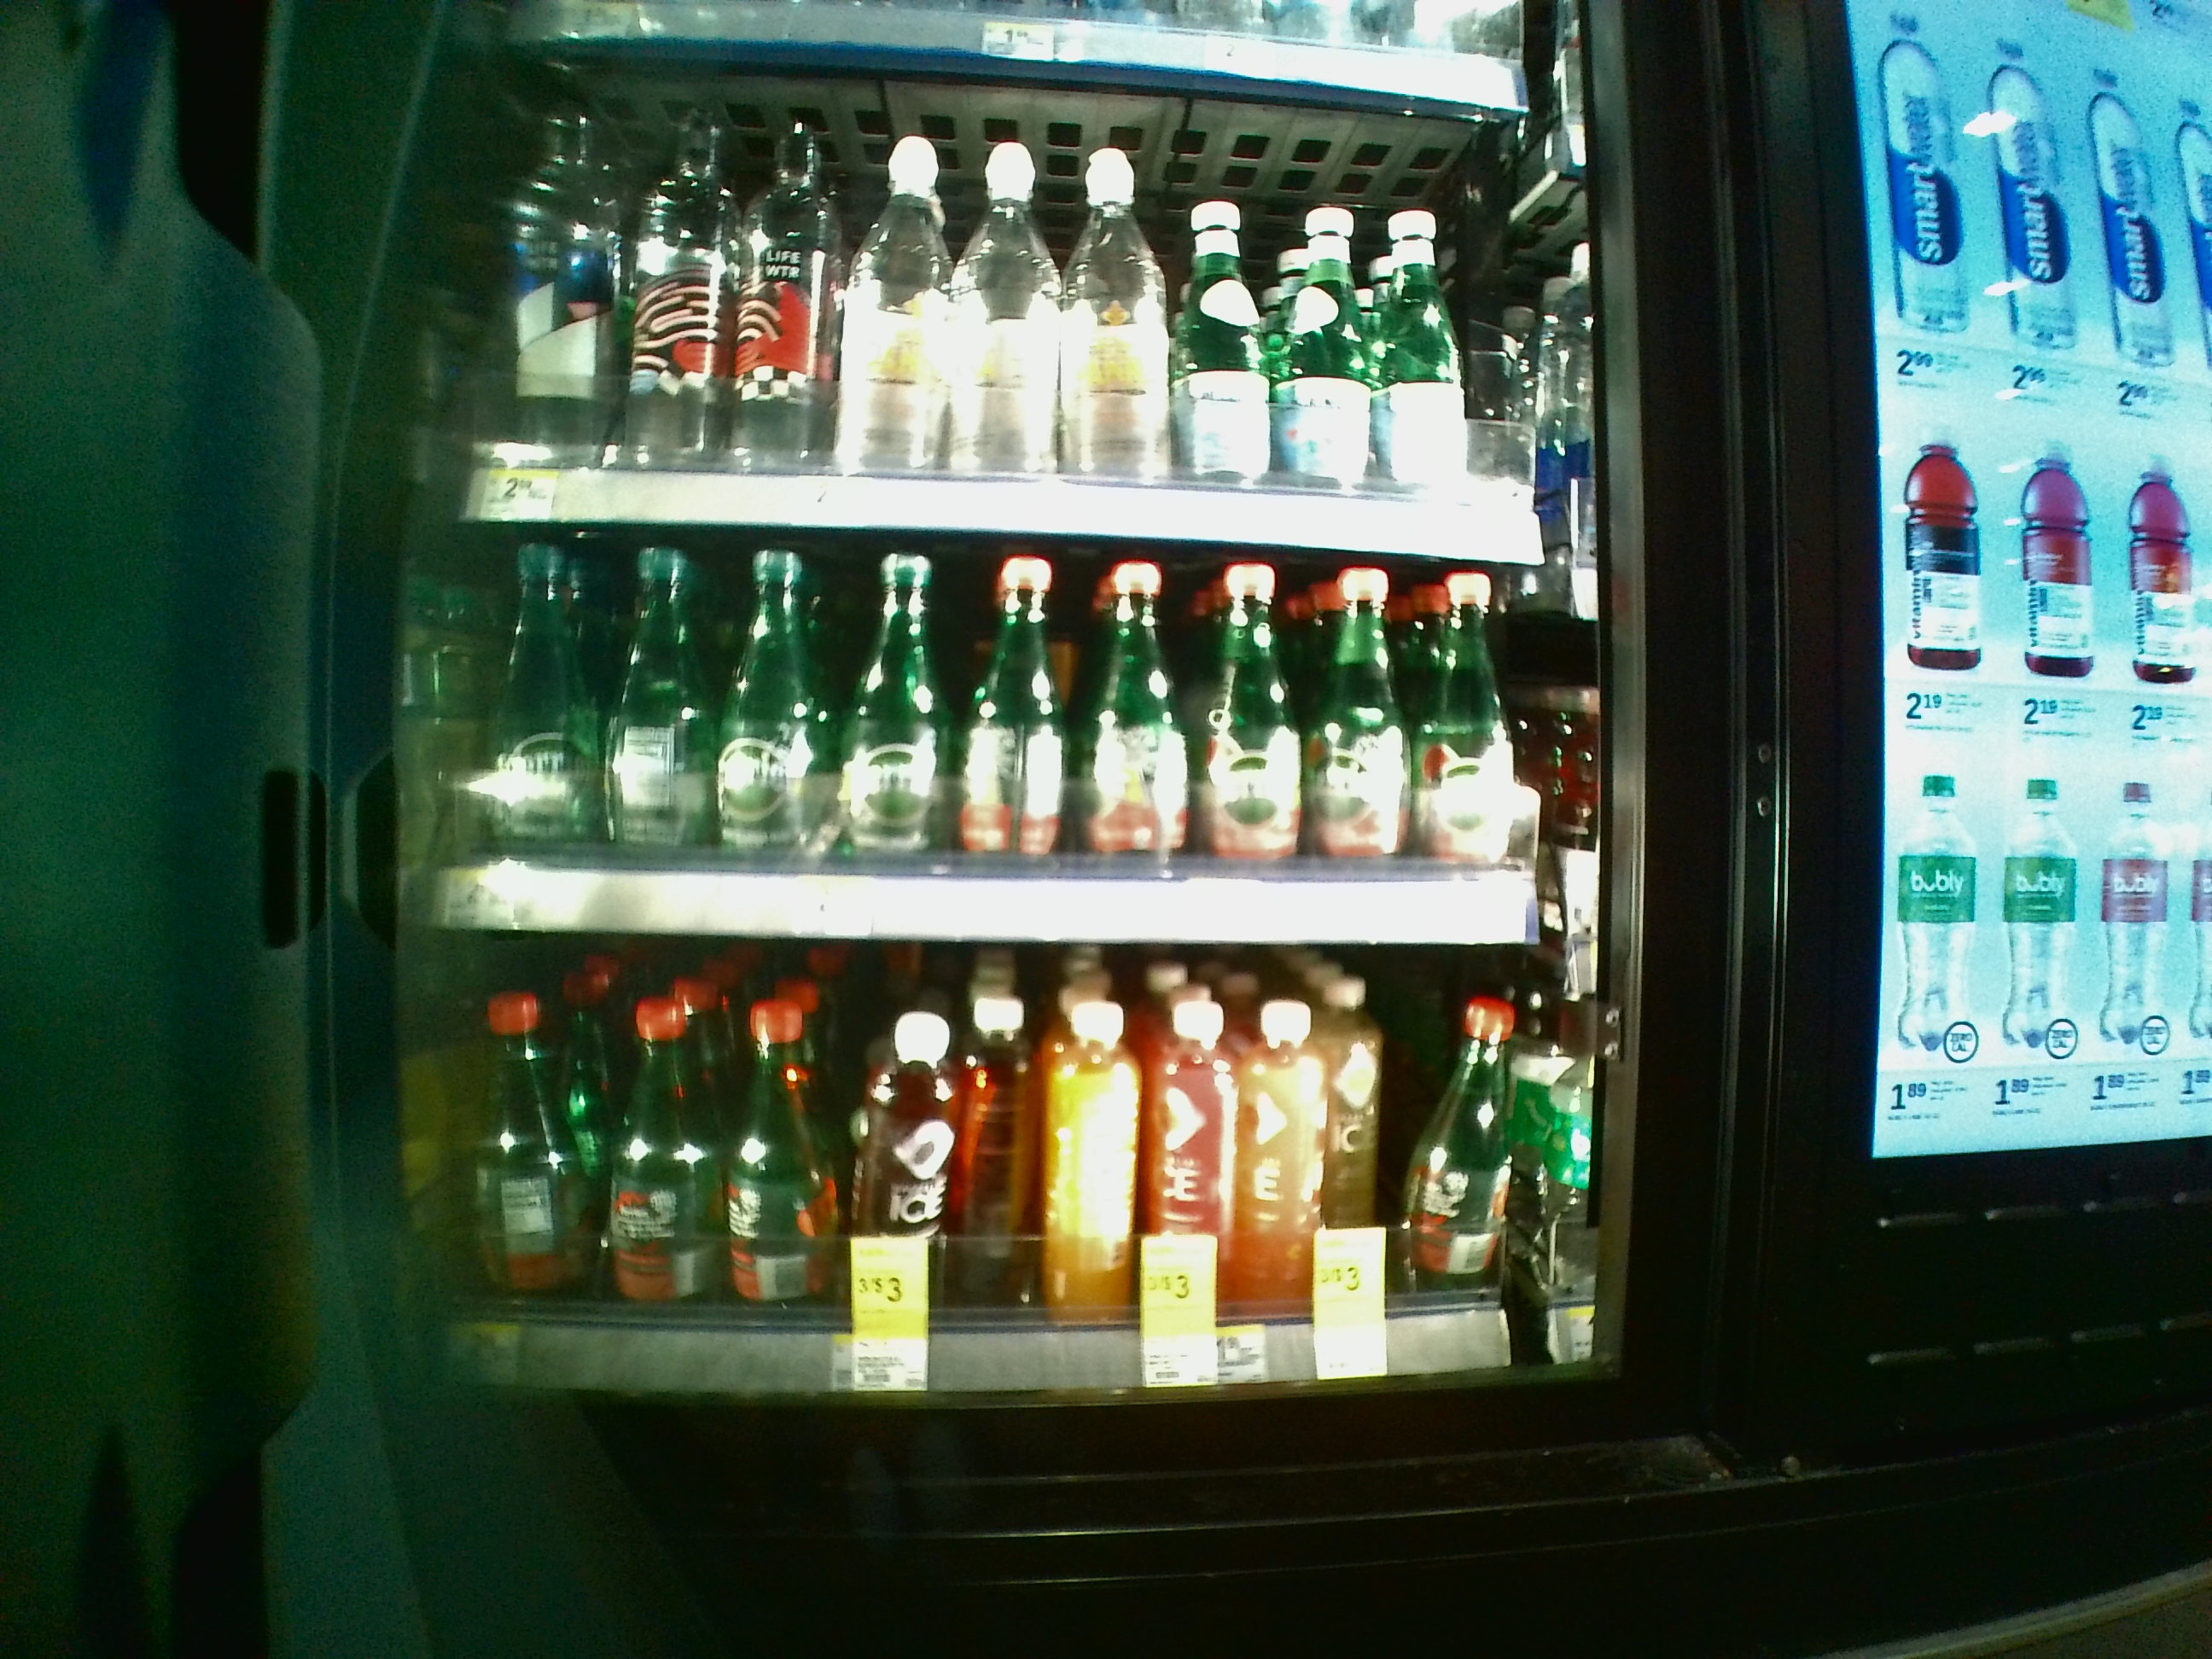shelf: (401, 948, 1599, 1405), (406, 518, 1601, 945)
